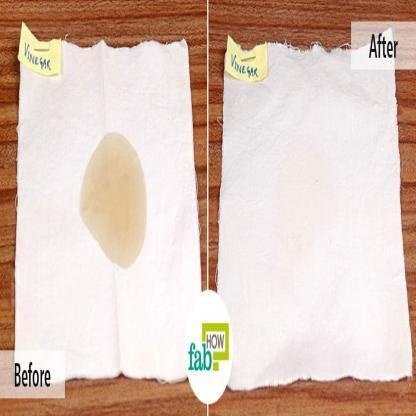coffee: (87, 143, 144, 242)
